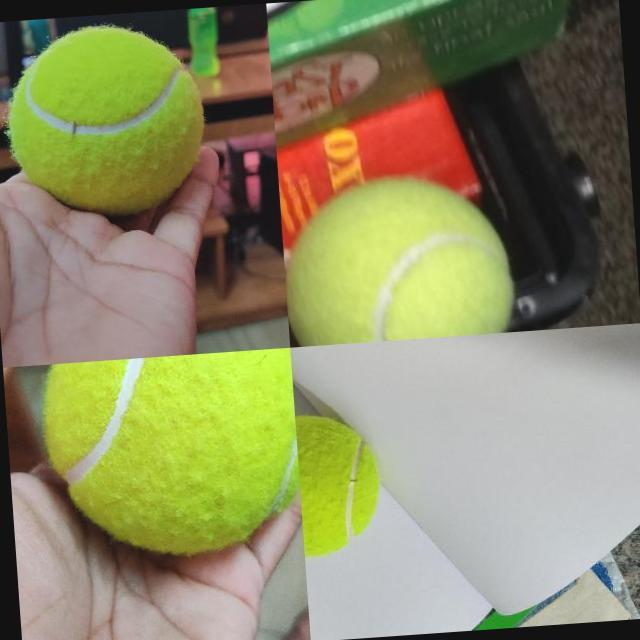tennis-ball: (38, 348, 302, 564), (278, 168, 520, 346), (3, 21, 209, 221), (294, 408, 386, 558)
